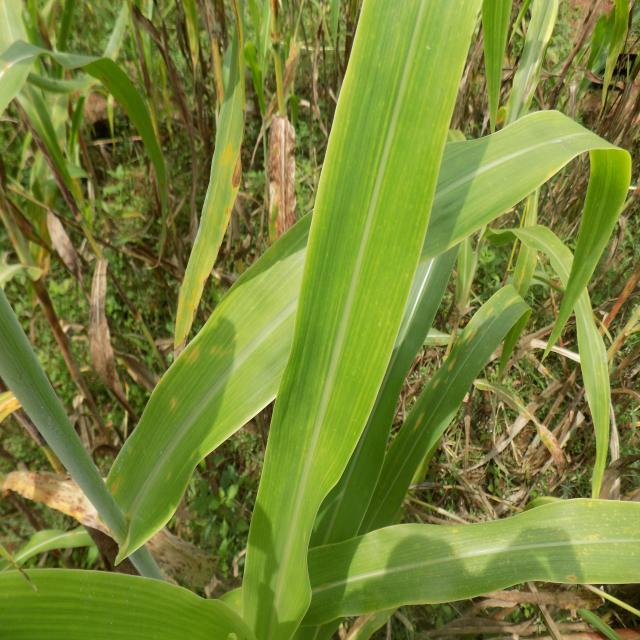millet_healthy: (102, 104, 633, 560), (244, 0, 484, 640), (356, 285, 528, 527), (312, 498, 640, 622), (0, 39, 166, 260), (516, 222, 612, 497), (176, 62, 244, 350), (2, 568, 256, 640), (431, 109, 472, 282), (484, 2, 514, 131), (20, 528, 99, 568)
